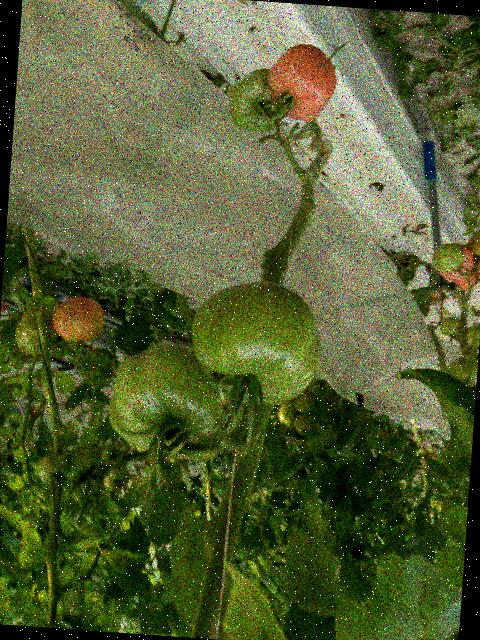b_fully_ripened: (434, 242, 475, 282), (452, 254, 480, 292)
b_green: (186, 275, 326, 410), (106, 340, 253, 463), (227, 65, 288, 134), (13, 305, 61, 357), (442, 352, 478, 405), (62, 444, 108, 485), (431, 241, 465, 273), (36, 452, 67, 486), (102, 464, 130, 492), (100, 443, 124, 469), (277, 399, 298, 428), (293, 412, 314, 435), (293, 393, 316, 414), (440, 315, 460, 337), (464, 325, 480, 346)
b_half_ripened: (265, 41, 339, 123), (50, 295, 107, 343), (465, 226, 480, 265)
